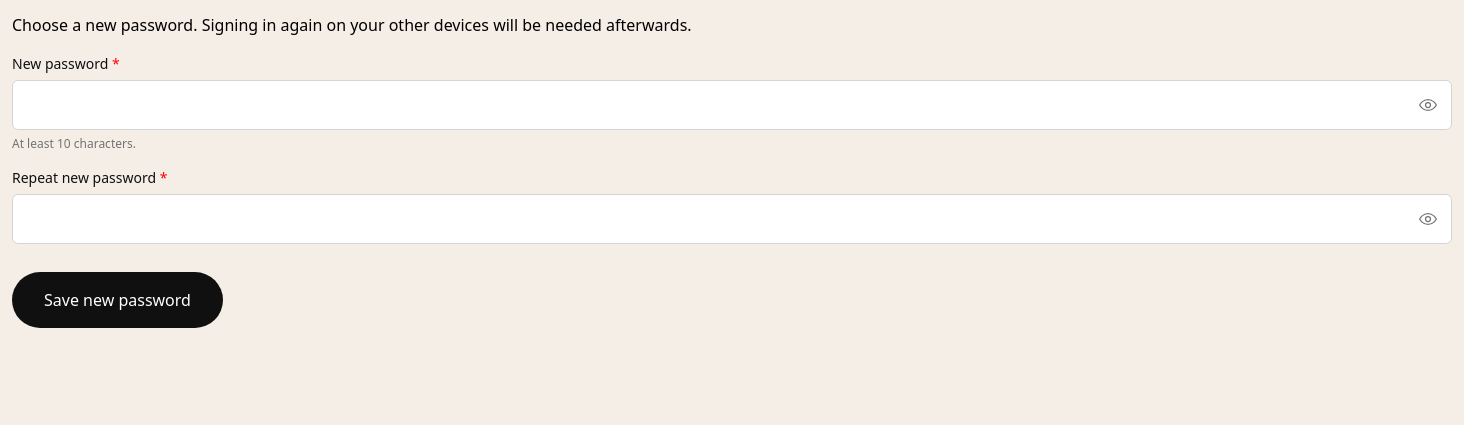
Scenario: ResetPasswordForm › offers a fresh link when the token has expired
This screenshot has width=1464, height=425.
Type "a-long-enough-password" into the password field labelled "New password *" at (732, 105), box [12, 80, 1452, 130]
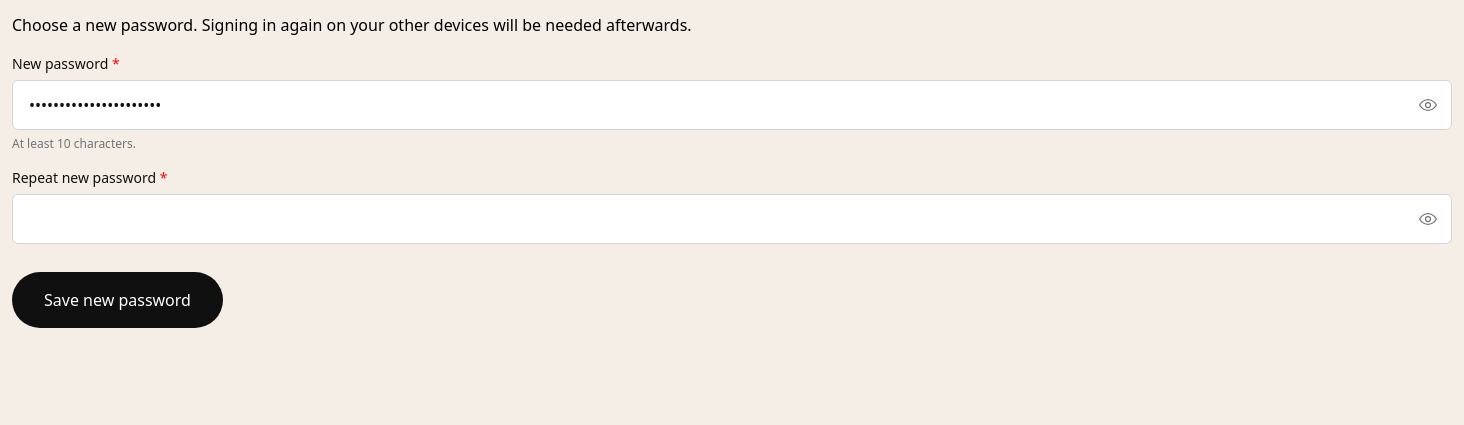
Type "a-long-enough-password" into the password field labelled "Repeat new password *" at (732, 219), box [12, 194, 1452, 244]
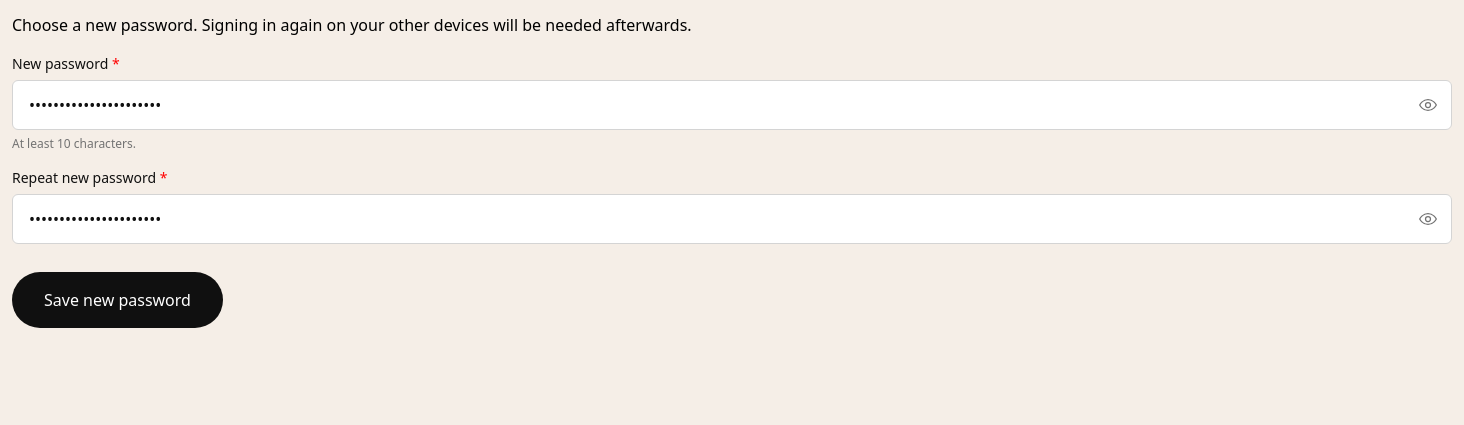
Click the button "Save new password" at (117, 300), box [12, 272, 223, 328]
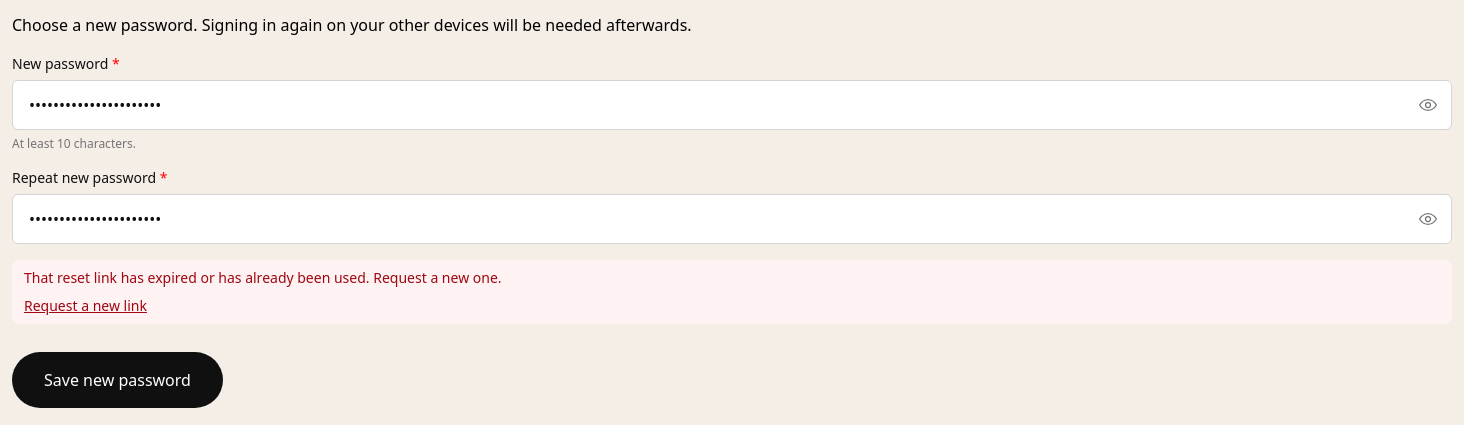
Expected: the message shows "expired or has already", [24, 268, 502, 287]
Expected: the link "Request a new link" is shown, [24, 296, 147, 316]
